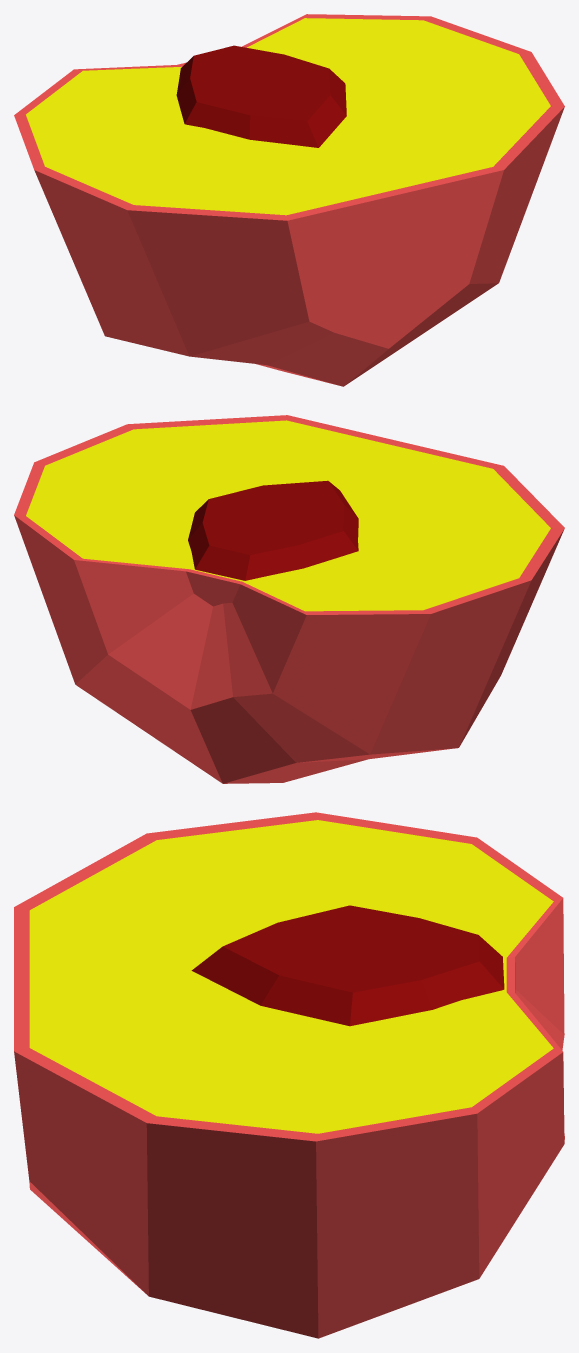
The model's file is peach02.gltf.
3 renders of one model, top to bottom at view 1: azimuth 30°, elevation 25°; view 2: azimuth 150°, elevation 25°; view 3: azimuth 270°, elevation 25°, orthographic. The views are drawn at different scales.
Visible parts, largest first — view 1: Cylinder; view 2: Cylinder; view 3: Cylinder.
Part boxes in pixels (<box>): Cylinder: <box>14,14,564,386</box>; Cylinder: <box>14,415,564,783</box>; Cylinder: <box>14,812,564,1338</box>.
Size of the model in its own units: 0.089 by 0.0475 by 0.0638.
1 material, 1 textured.
